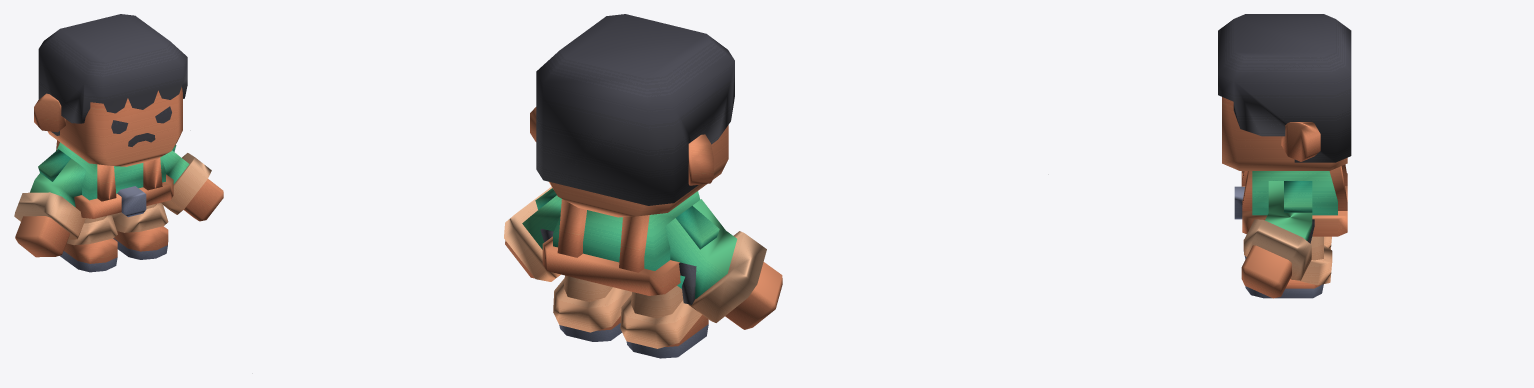
The model's file is crowdA_sprint_0.glb.
3 renders of one model, left to right at view 1: azimuth 30°, elevation 25°; view 2: azimuth 150°, elevation 25°; view 3: azimuth 270°, elevation 25°, orthographic. The views are drawn at different scales.
Visible parts, largest first — view 1: crowdA-sprint-0; view 2: crowdA-sprint-0; view 3: crowdA-sprint-0.
Boxes of the visible parts, bbox=[...] form: crowdA-sprint-0: bbox=[14, 14, 223, 272]; crowdA-sprint-0: bbox=[504, 14, 782, 358]; crowdA-sprint-0: bbox=[1218, 14, 1351, 298].
Size of the model in its own units: 1.2 by 0.6713 by 1.2.
1 material, 1 textured.
